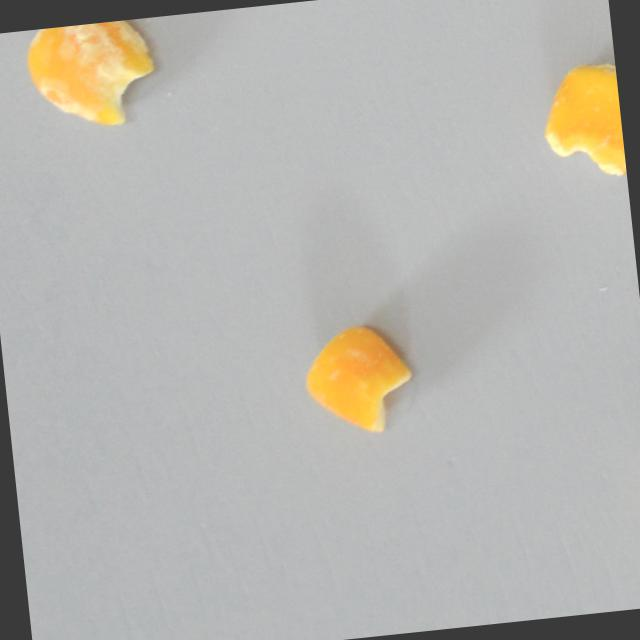no_canjicado: (298, 318, 418, 439)
pelicula: (22, 16, 161, 132), (536, 56, 626, 182)
